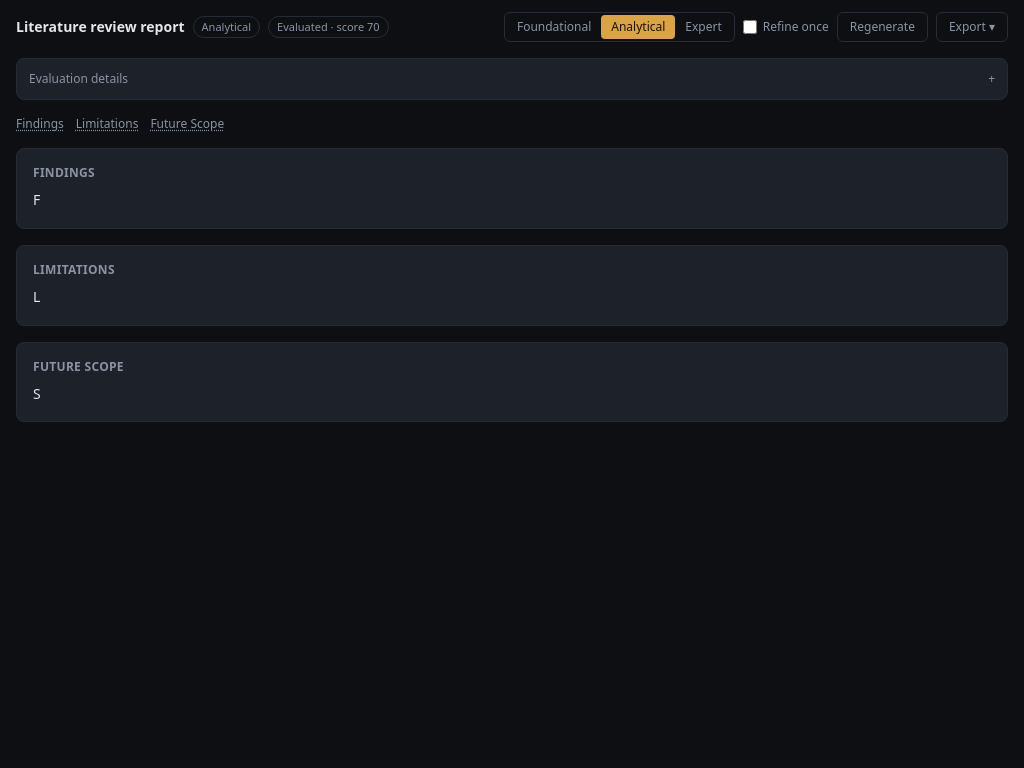
Test: ReportModePanel -- report-quality Phase R4.2: evaluation details disclosure › falls back to the raw key as the label when a section_scores key has no matching section
This screenshot has width=1024, height=768.
Click the button with test id "evaluation-details-toggle" at (79, 78), box top-left (29, 71), bottom-right (995, 87)
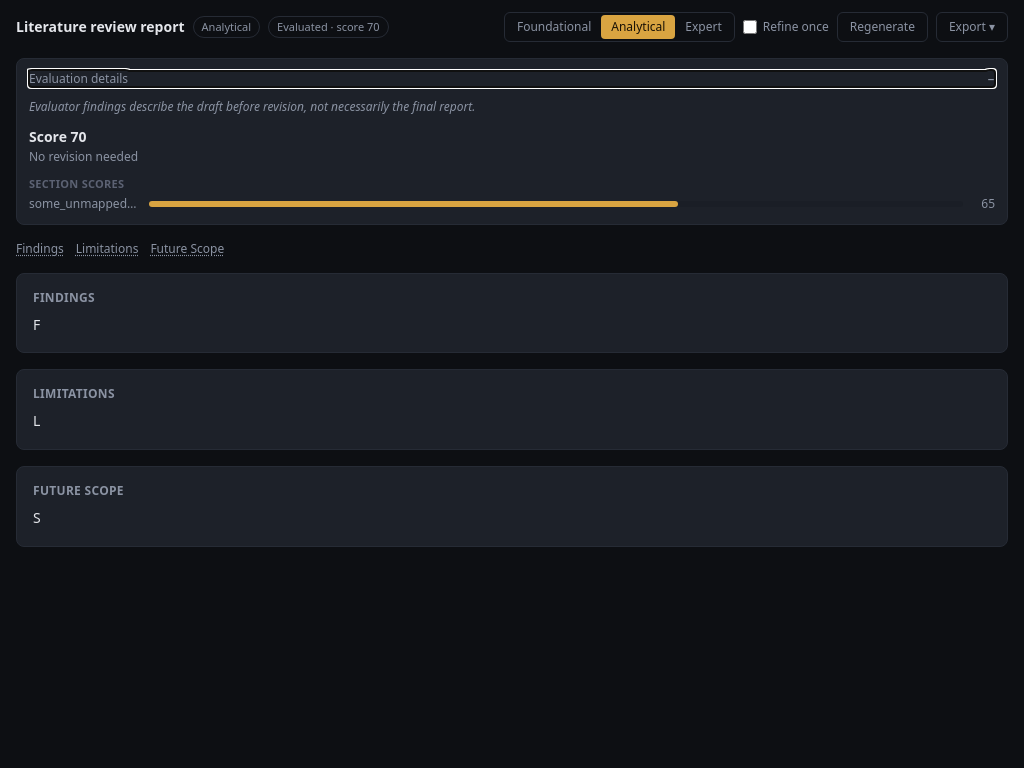
Result: the element with test id "evaluation-details-section-score-some_unmapped_key" shows "some_unmapped_key" at top-left (29, 195), bottom-right (151, 212)
Result: the element with test id "evaluation-details-section-score-some_unmapped_key" shows "65" at top-left (981, 195), bottom-right (995, 212)
